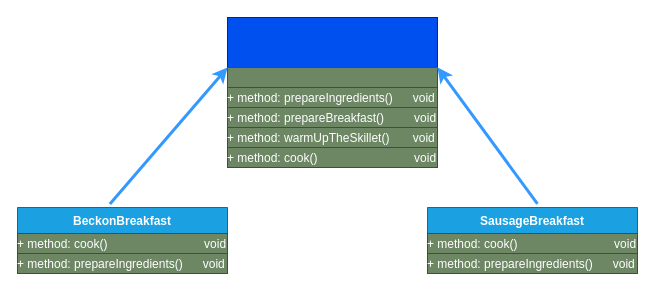
Image size: 655x291. Some labels were removed from this diagram. The centre of each missing label's shape, as x and y in pixels:
"+ method: serve() void" goes at (x=332, y=77).
"«abstract» Breakfast" goes at (x=332, y=42).
